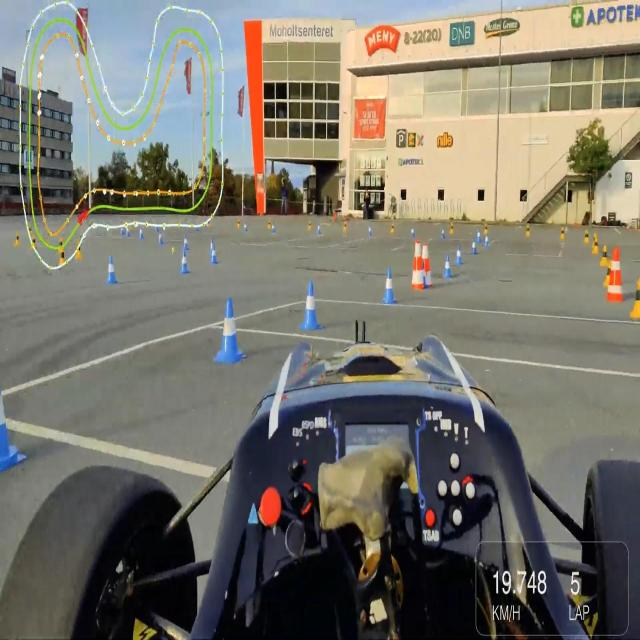Cono de seguridad: (0, 380, 23, 472), (212, 296, 244, 362), (606, 246, 626, 302), (299, 279, 320, 331), (411, 241, 424, 291), (382, 267, 396, 306), (422, 242, 432, 290), (104, 255, 118, 287), (630, 277, 640, 321), (603, 257, 614, 289), (419, 258, 429, 290), (442, 253, 452, 279), (180, 250, 190, 273), (74, 240, 85, 260), (600, 245, 609, 268), (453, 243, 462, 265), (210, 246, 219, 266), (58, 245, 66, 267), (30, 234, 39, 251), (470, 236, 477, 256), (208, 236, 215, 256), (592, 238, 600, 255), (591, 232, 599, 249), (57, 236, 64, 253), (183, 234, 189, 252), (14, 233, 20, 248), (484, 233, 490, 247), (476, 229, 482, 243), (584, 230, 590, 244), (560, 226, 566, 240), (440, 227, 446, 240), (483, 221, 489, 233), (368, 224, 373, 238), (125, 226, 131, 237), (526, 223, 531, 236), (390, 221, 395, 233), (307, 221, 312, 232), (317, 223, 321, 236), (450, 222, 454, 235), (139, 228, 144, 238), (267, 219, 272, 229), (159, 232, 163, 244), (120, 224, 124, 236), (343, 221, 347, 232), (410, 228, 414, 238), (272, 222, 275, 233), (237, 219, 240, 230), (244, 222, 247, 231)
vehiculo: (0, 321, 640, 640)
